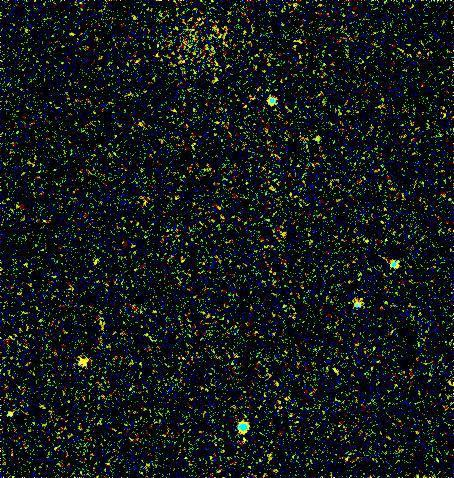star: (67, 347, 97, 377)
